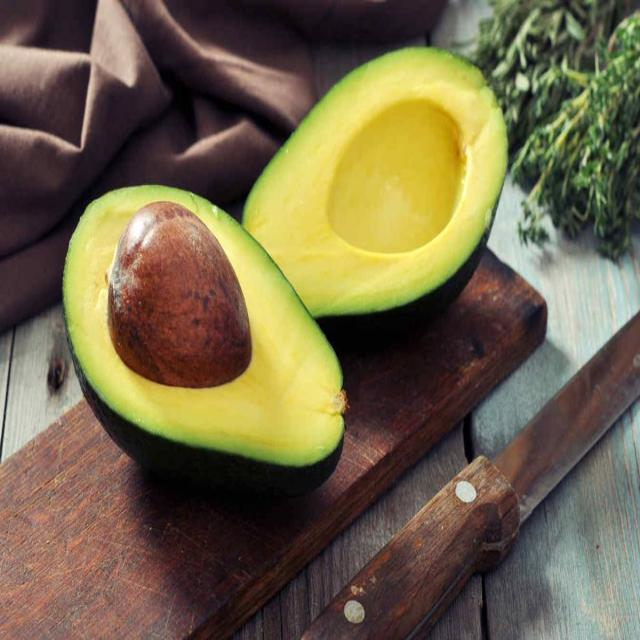aguacate: (50, 180, 358, 499), (249, 38, 509, 341)
